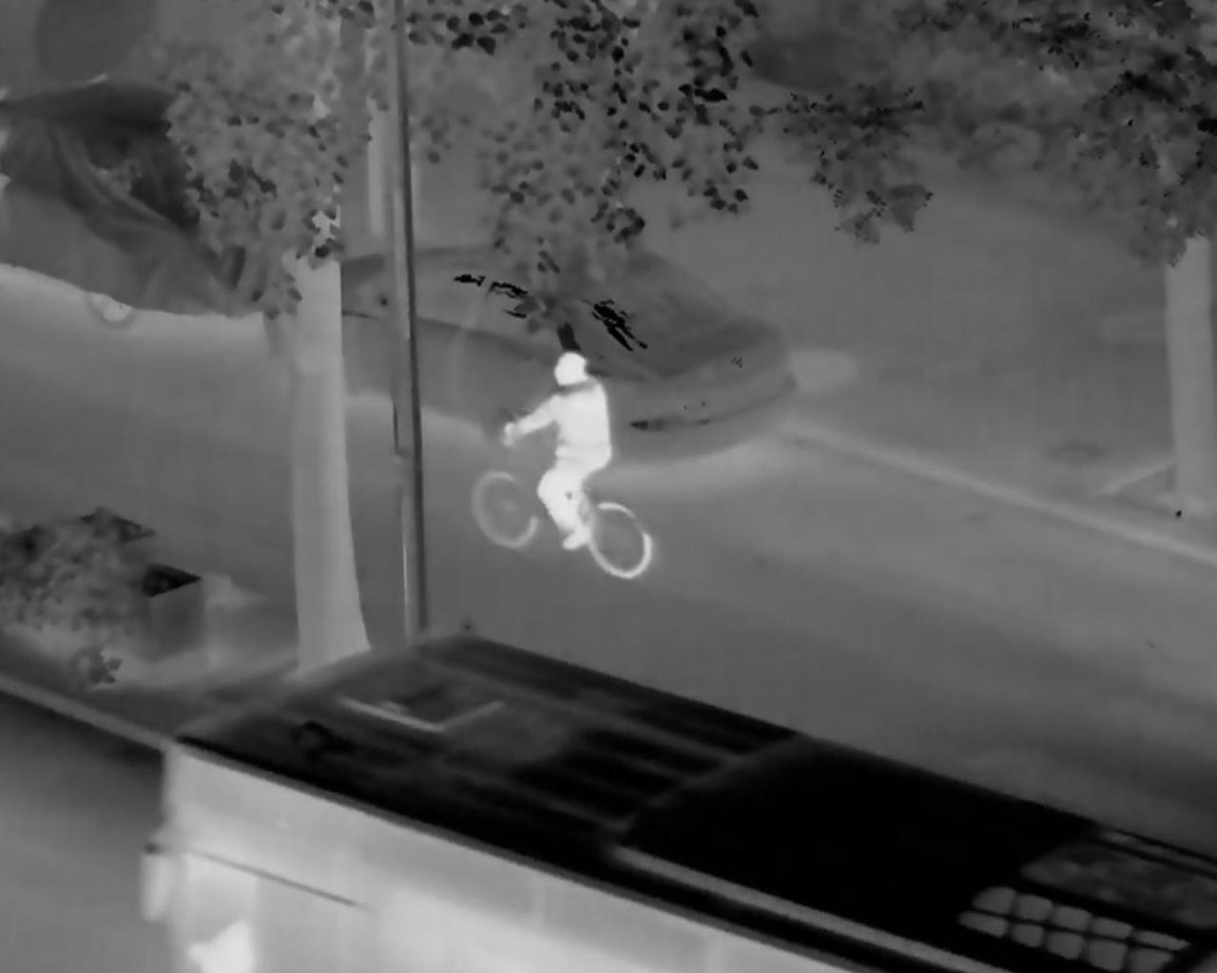person: (502, 350, 614, 547)
